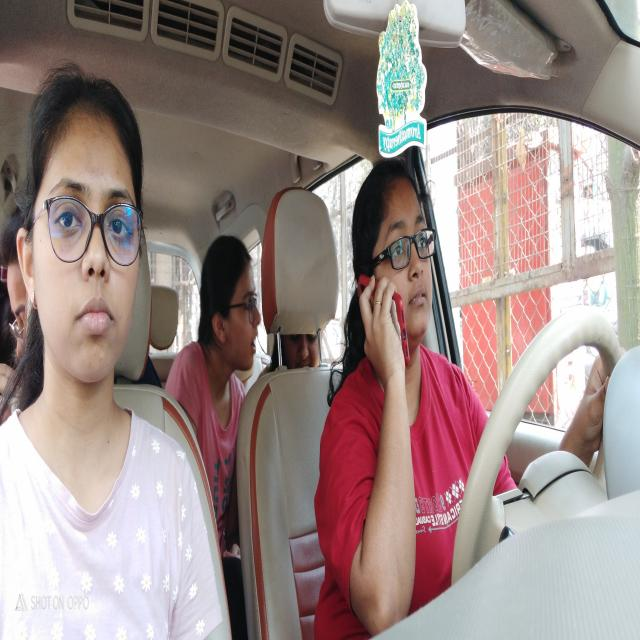mobile: (354, 276, 419, 372)
person: (15, 75, 152, 395), (351, 169, 438, 354), (197, 232, 263, 380), (2, 189, 33, 376), (277, 334, 327, 377)
